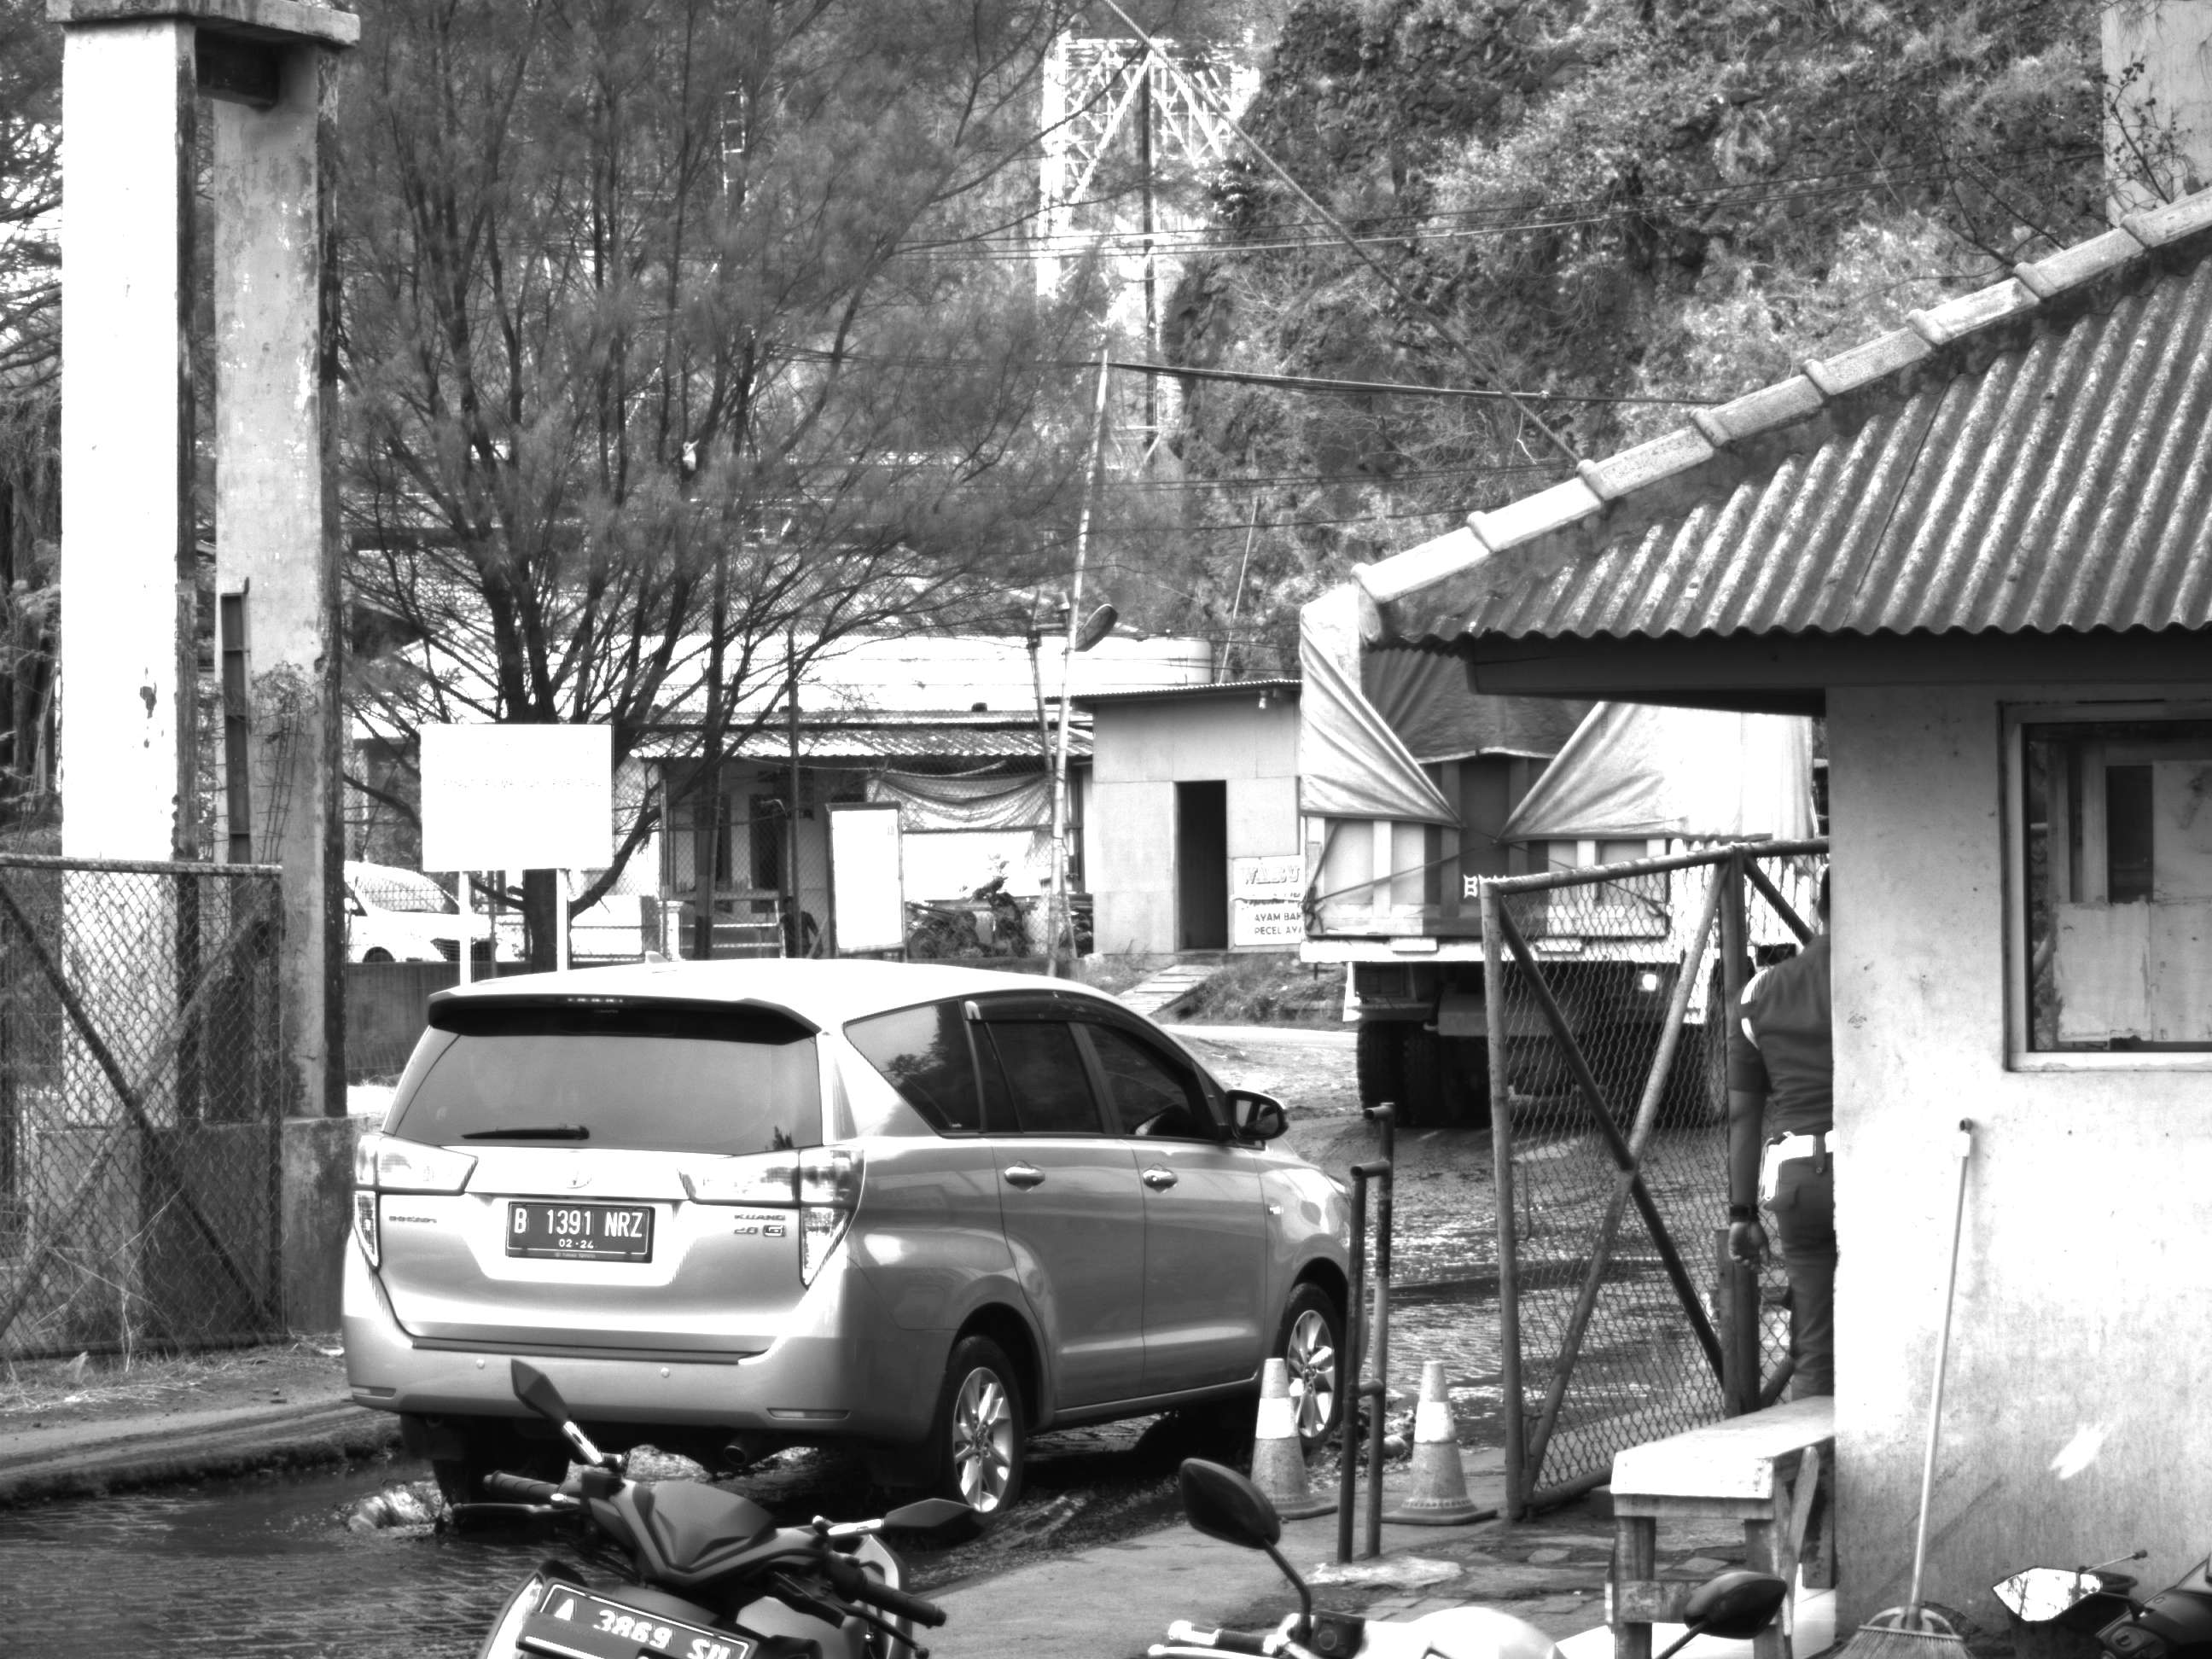day_small_rear: (329, 932, 1042, 1551)
plate: (500, 1190, 660, 1264)
